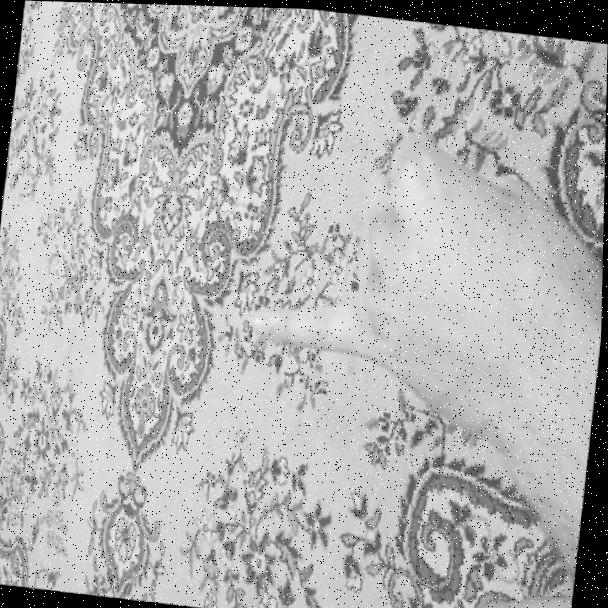five: (236, 98, 606, 447)
